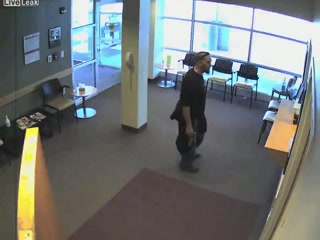pistol: (185, 129, 195, 147)
